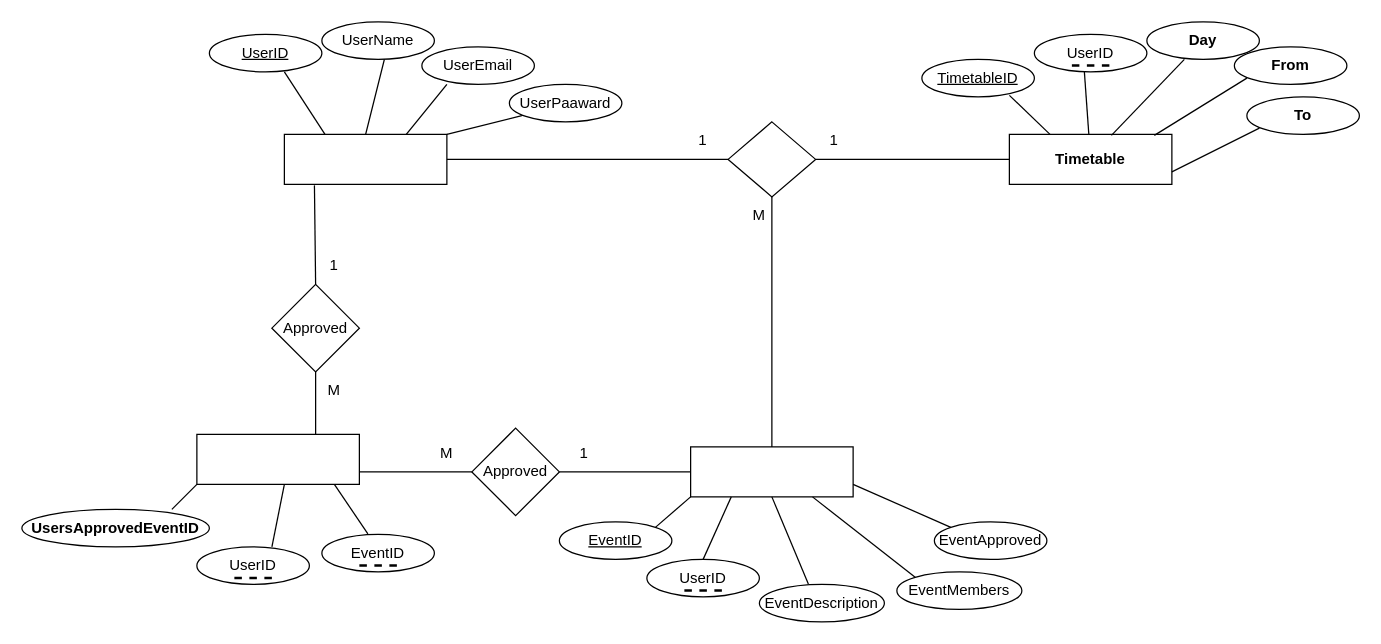
The diagram is 1381 pixels wide and 644 high, and some of its shapes have lost their labels. Here are the shapes that lost their labels. From the top down, the centre of each, then its label:
(x=365, y=158): Users
(x=771, y=159): Add
(x=277, y=458): EventParticipants
(x=771, y=471): Events
